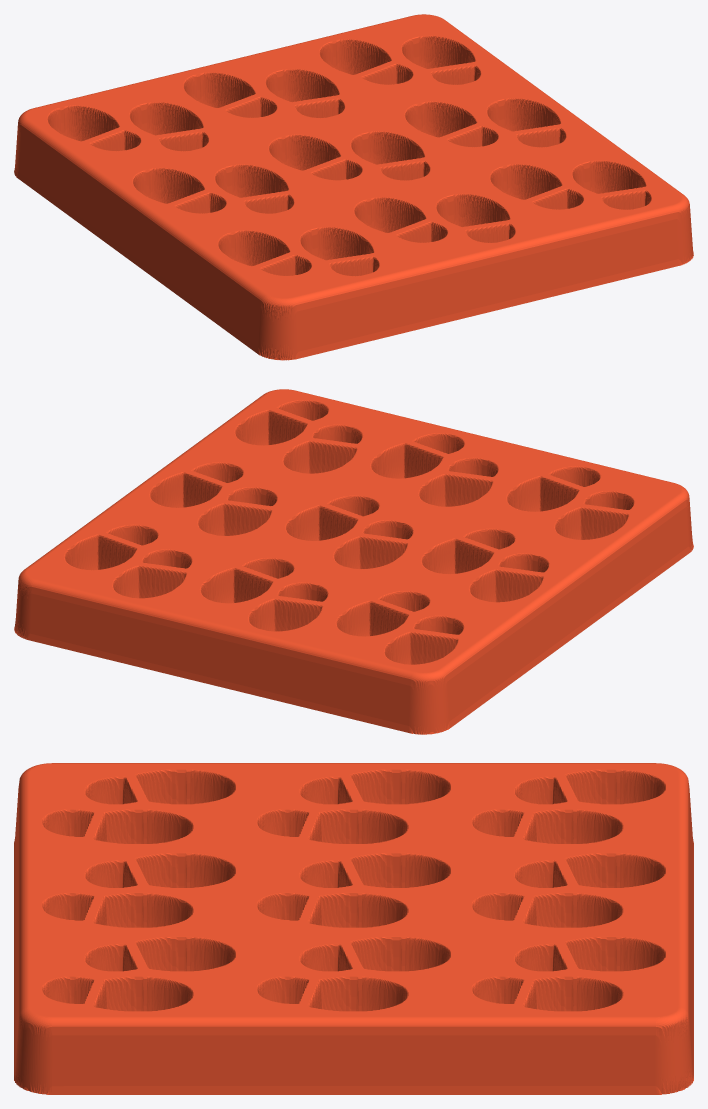
File: mold.glb
3 views of the same model, one above another, from view 1: azimuth 30°, elevation 25°; view 2: azimuth 150°, elevation 25°; view 3: azimuth 270°, elevation 25° (orthographic). The views are drawn at different scales.
Visible parts, largest first — view 1: geometry_0; view 2: geometry_0; view 3: geometry_0.
Boxes of the visible parts, bbox=[...] form: geometry_0: bbox=[14, 14, 693, 360]; geometry_0: bbox=[14, 389, 693, 734]; geometry_0: bbox=[14, 763, 693, 1094].
Size of the model in its own units: 0.1475 by 0.0185 by 0.1595.
